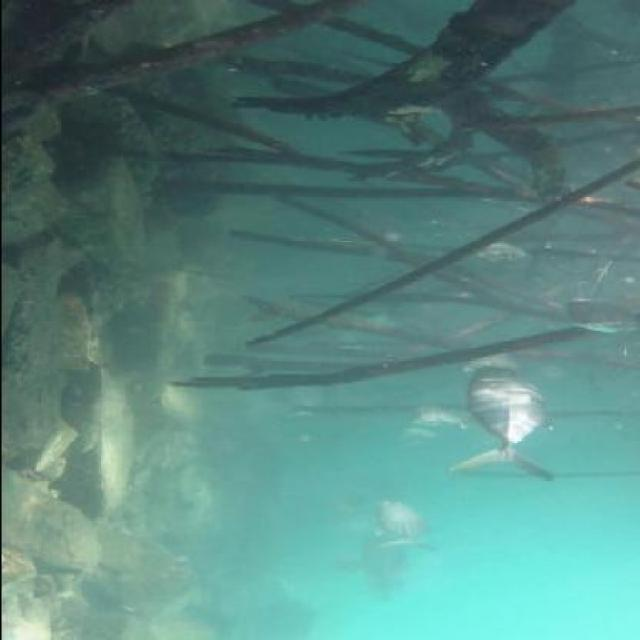Caranx_sexfasciatus_juvenile: (437, 364, 566, 482), (329, 534, 423, 594), (365, 494, 440, 548), (458, 231, 542, 271), (553, 298, 636, 338), (391, 401, 466, 437)
